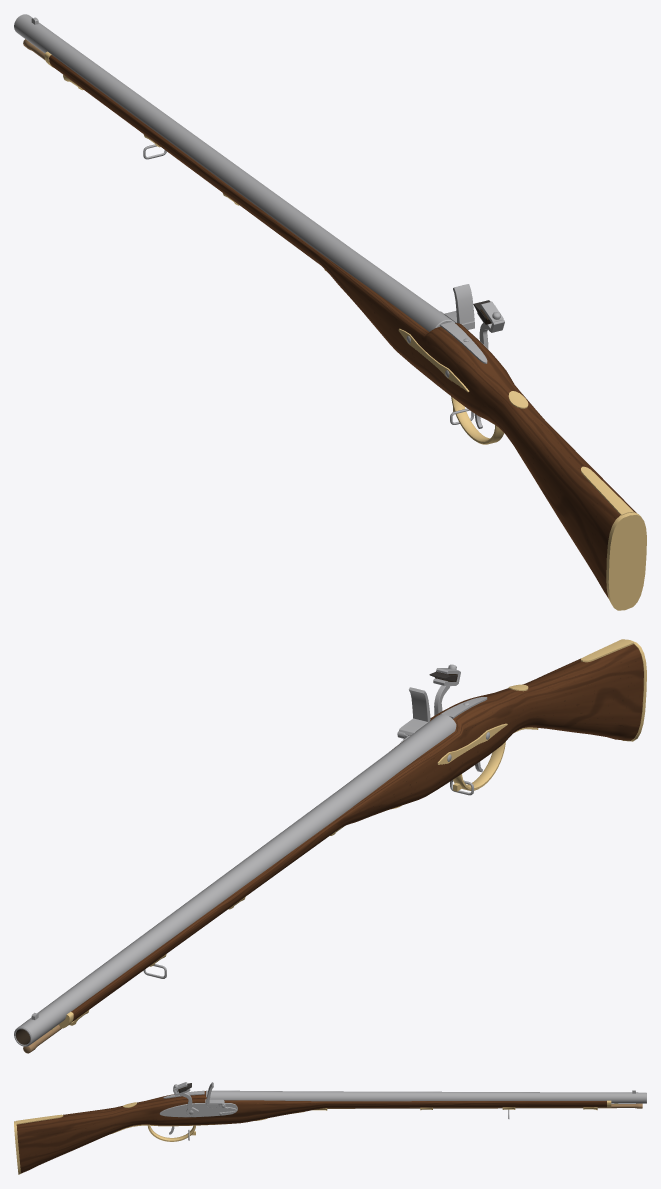
Rendered from trade_musket.glb.
3 renders of one model, top to bottom at view 1: azimuth 30°, elevation 25°; view 2: azimuth 150°, elevation 25°; view 3: azimuth 270°, elevation 25°, orthographic. The views are drawn at different scales.
Visible parts, largest first — view 1: TradeMusket; view 2: TradeMusket, Frizzen, Cock; view 3: TradeMusket, Ramrod, Cock, Frizzen.
Boxes of the visible parts, <box> form: TradeMusket: <box>14,14,646,610</box>; TradeMusket: <box>14,639,646,1046</box>; Frizzen: <box>397,687,430,739</box>; Cock: <box>429,664,460,715</box>; TradeMusket: <box>14,1090,646,1174</box>; Ramrod: <box>327,1103,642,1108</box>; Cock: <box>173,1082,198,1116</box>; Frizzen: <box>206,1082,228,1108</box>.
Bounding box in the file's own units: 0.0687 × 0.2316 × 1.39.
6 materials, 1 textured.
